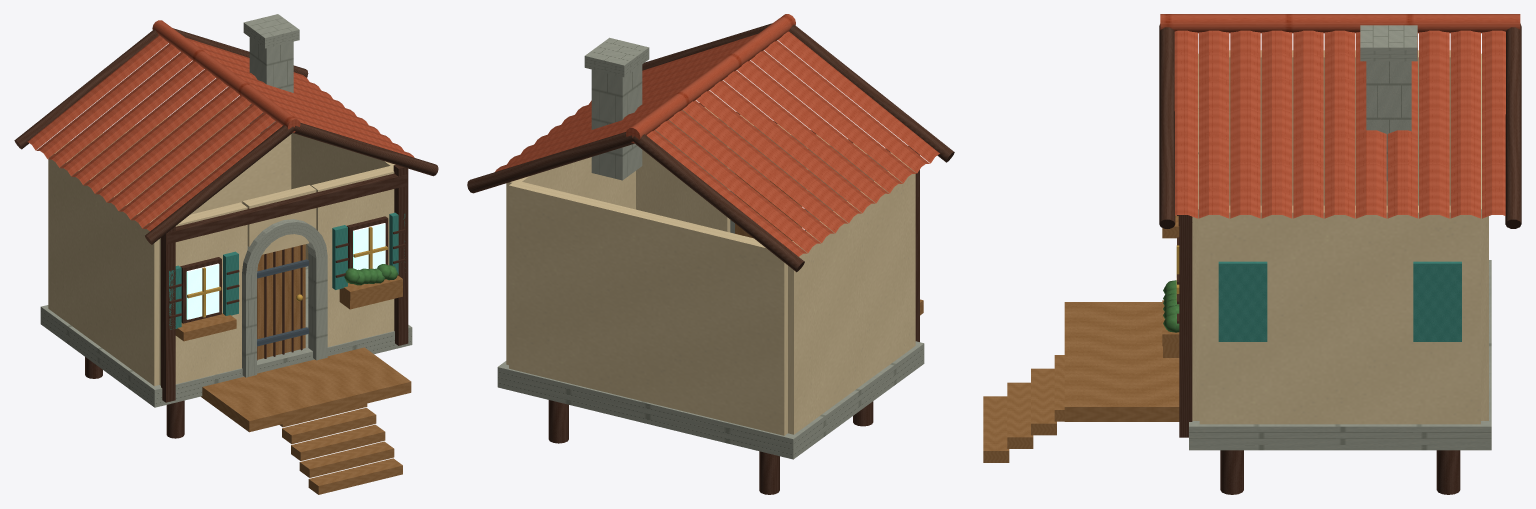
Rendered from stilt_hut.glb.
3 views of the same model, side by side, from view 1: azimuth 30°, elevation 25°; view 2: azimuth 150°, elevation 25°; view 3: azimuth 270°, elevation 25° (orthographic). The views are drawn at different scales.
Visible parts, largest first — view 1: stilt_hut; view 2: stilt_hut; view 3: stilt_hut.
Part boxes in pixels (x1,y1,x2,y2): stilt_hut: (14,14,438,494); stilt_hut: (467,14,954,494); stilt_hut: (983,14,1521,494).
Size of the model in its own units: 4.12 by 4.49 by 4.98.
10 materials, 10 textured.
